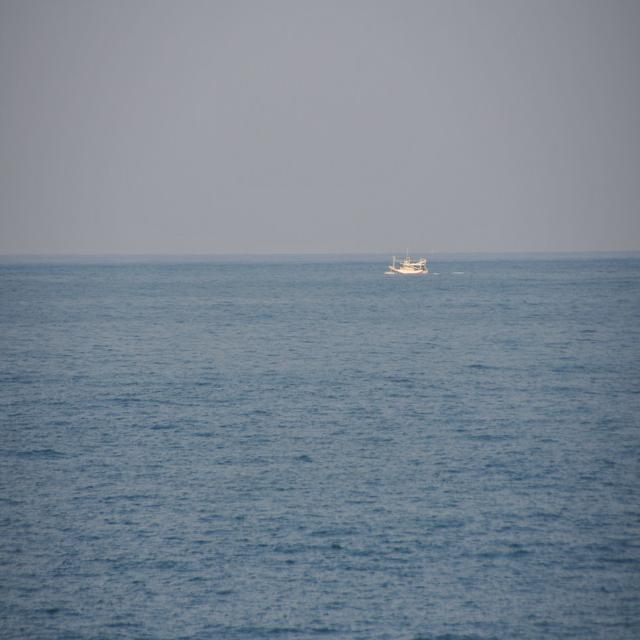houseboat: (386, 245, 430, 278)
